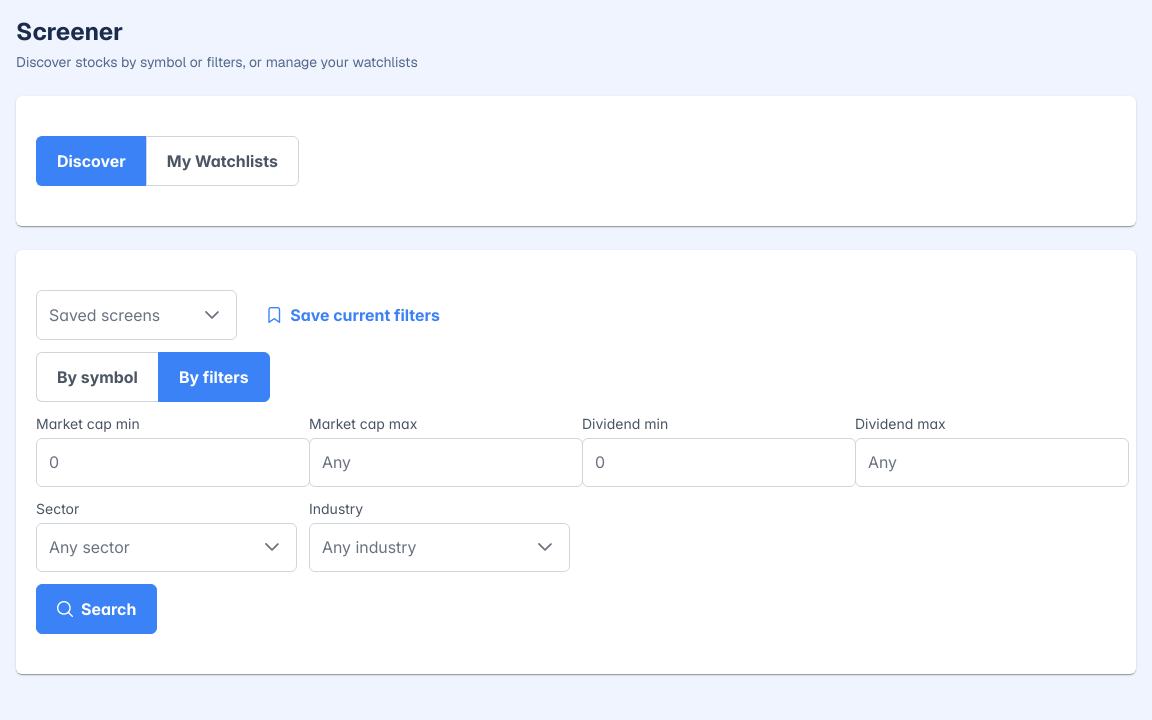
Test case: ScreenerView › switches to the My Watchlists tab
Step 1. Click the button "My Watchlists" → (222, 161), box [146, 136, 299, 186]
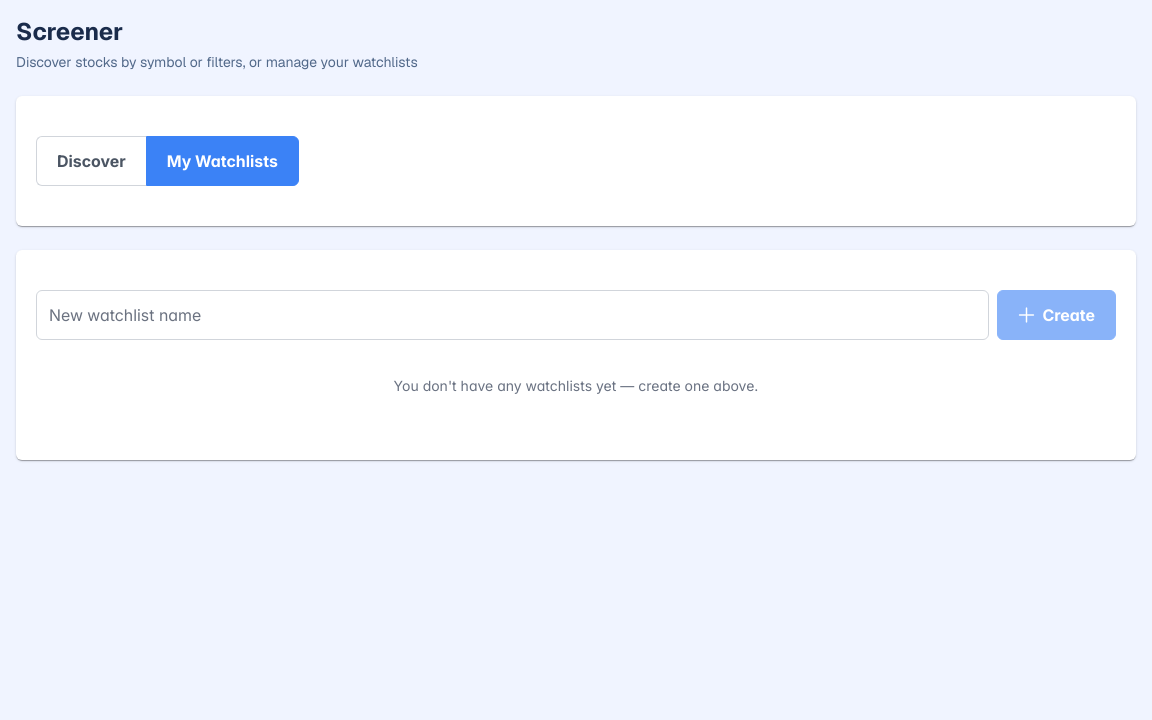
Result: the field with placeholder "New watchlist name" is shown at [36, 290, 989, 340]
